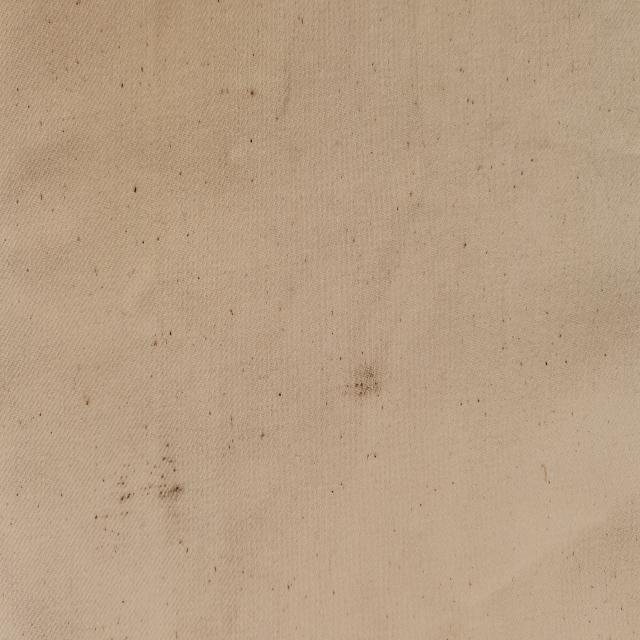taaaches: (152, 452, 186, 509), (350, 349, 382, 407), (105, 468, 135, 526)
